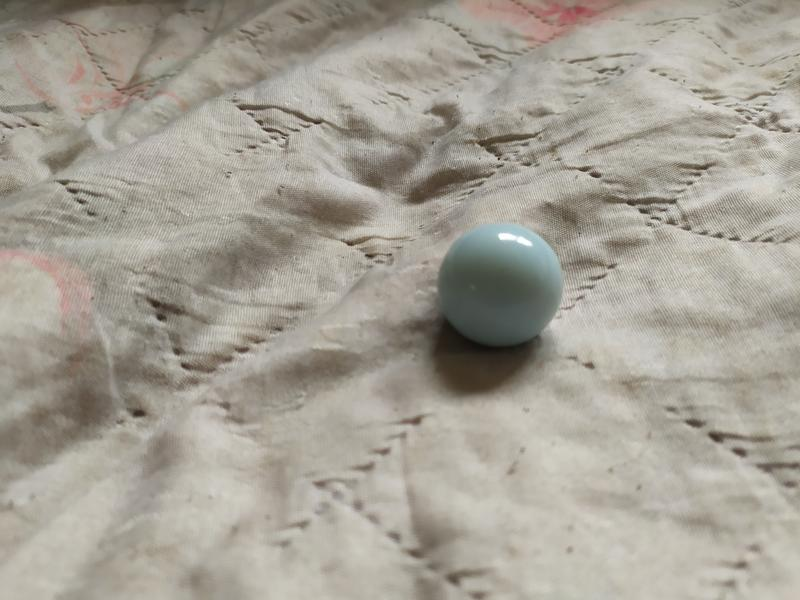Warning: (434, 220, 568, 352)
